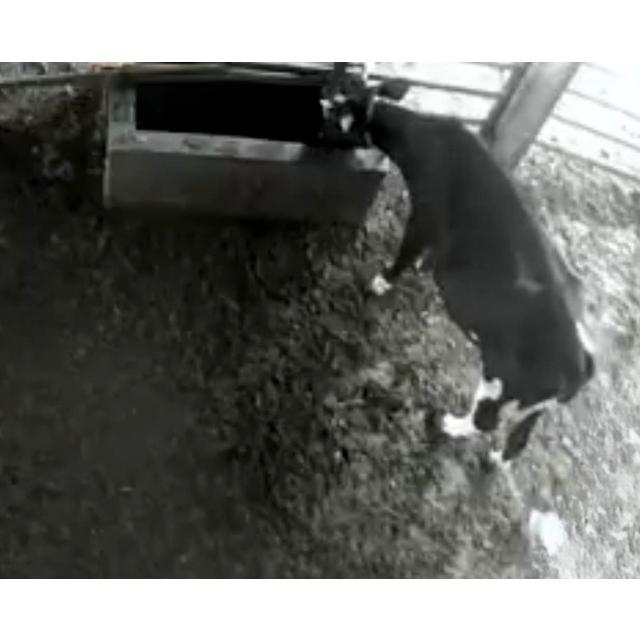drink: (289, 69, 429, 175)
